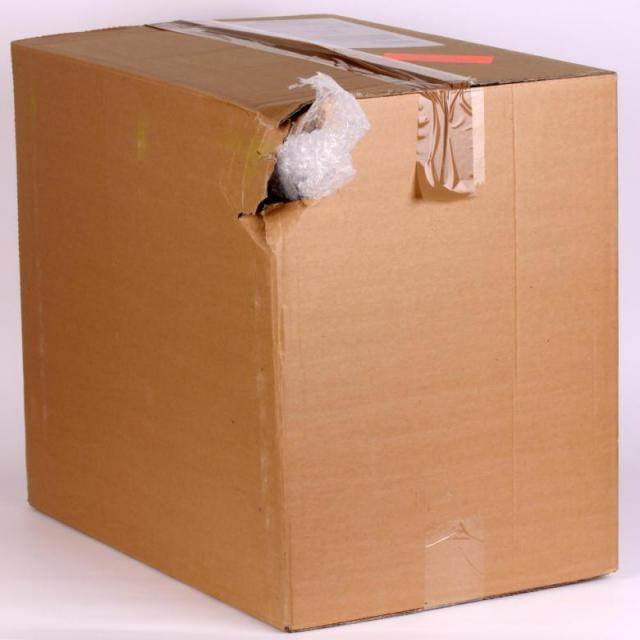hole: (246, 102, 328, 220)
